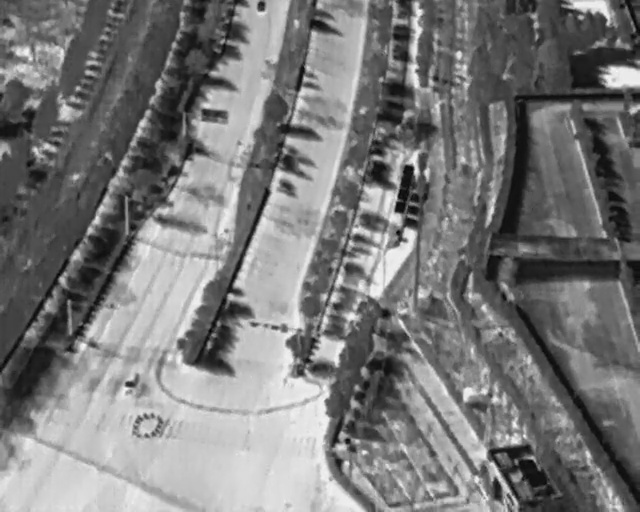Car: (126, 372, 139, 393), (256, 0, 266, 12)
